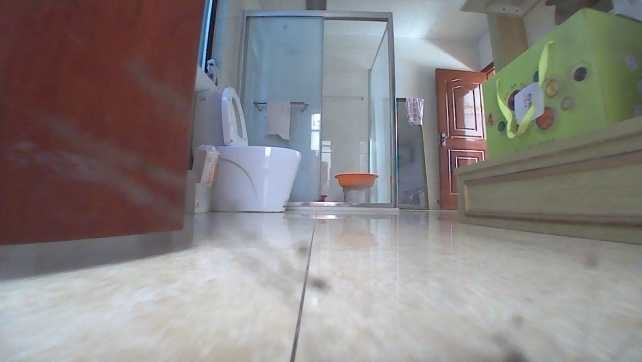toilet: (193, 84, 306, 213)
